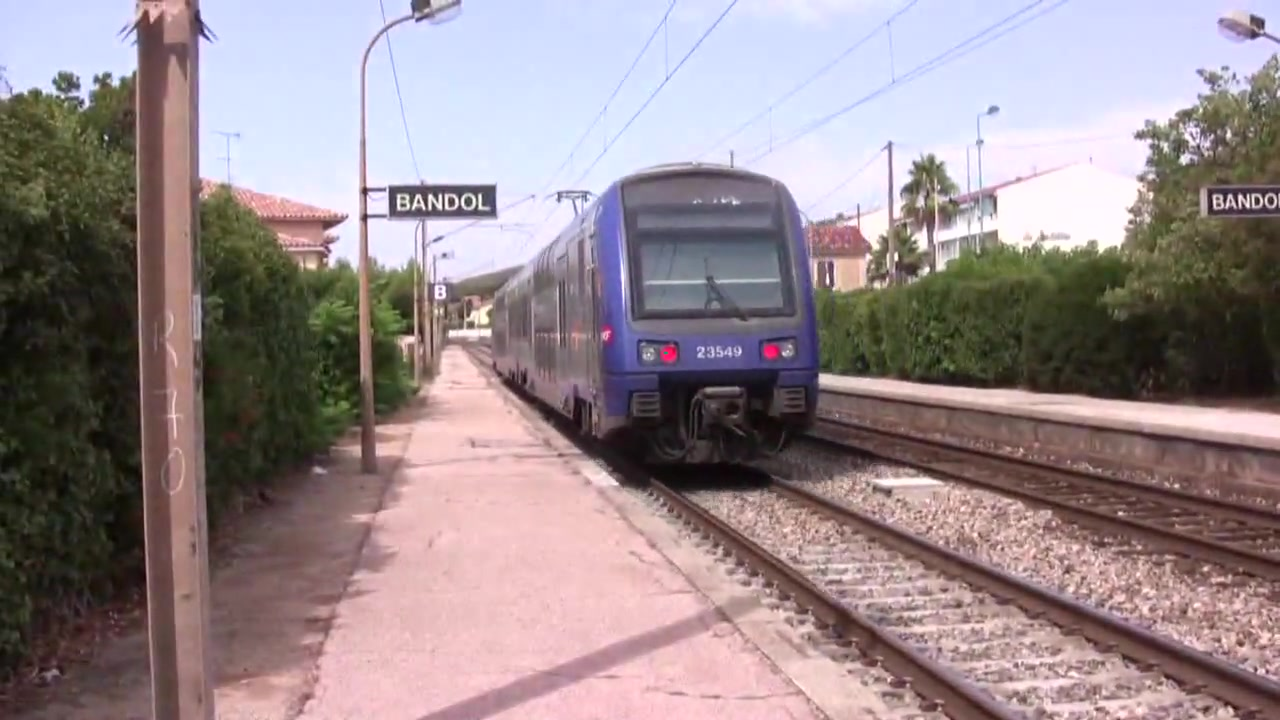train: (487, 161, 821, 466)
